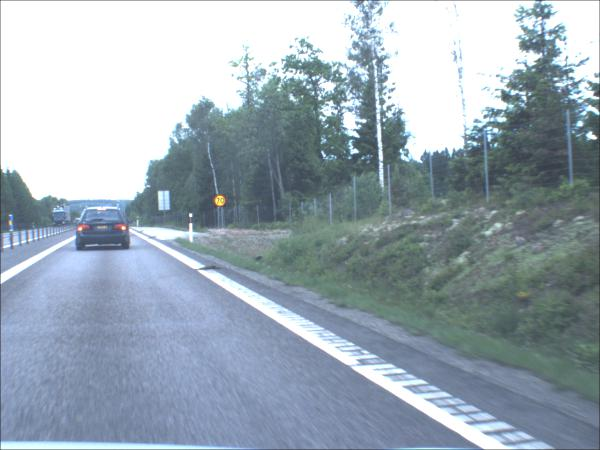70_SIGN: (215, 195, 228, 209)
